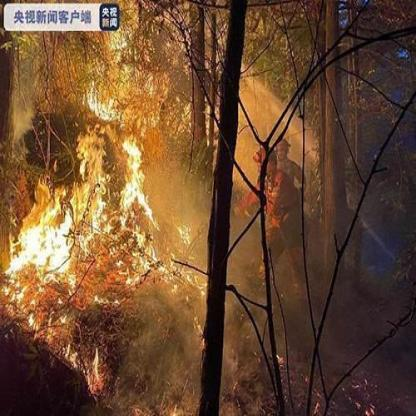fire: (15, 41, 163, 403)
